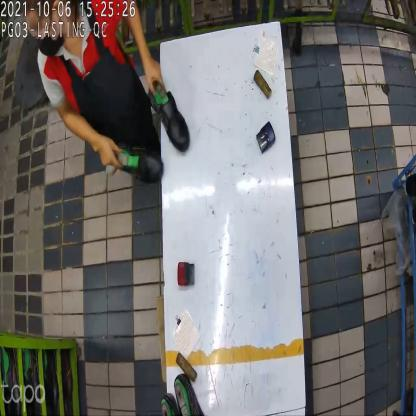shoes: (116, 85, 194, 183)
stamp: (256, 121, 276, 156), (177, 258, 195, 288)
